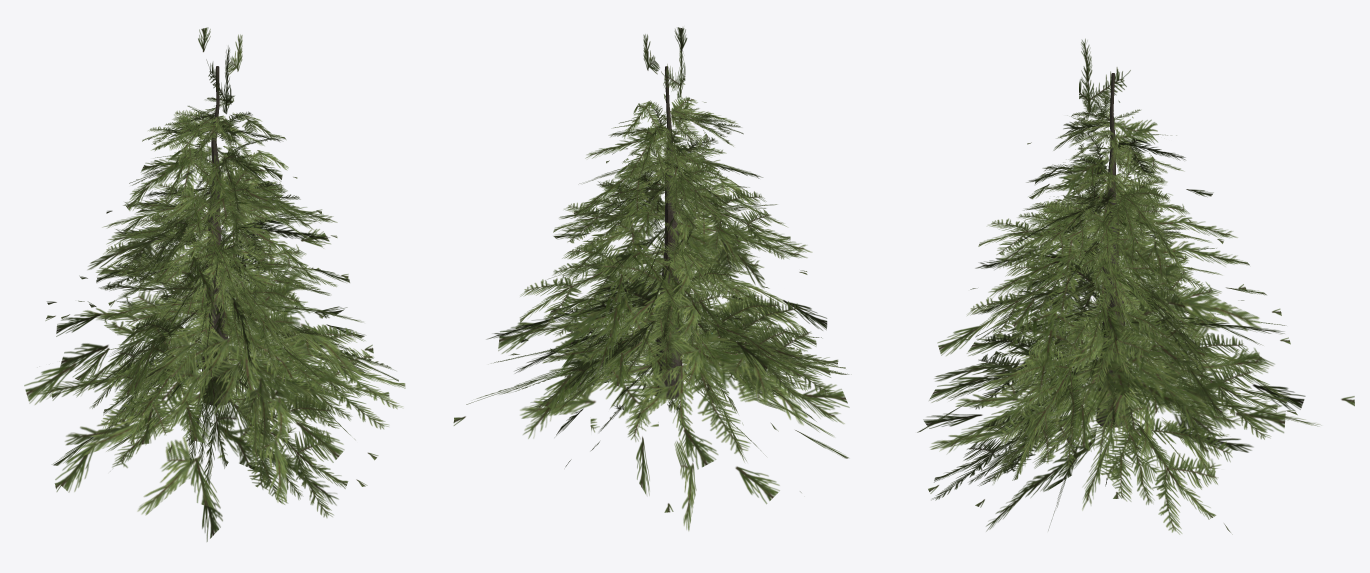
Rendered from prop_sapling_firmed_b.glb.
3 renders of one model, left to right at view 1: azimuth 30°, elevation 25°; view 2: azimuth 150°, elevation 25°; view 3: azimuth 270°, elevation 25°, orthographic. The views are drawn at different scales.
Visible parts, largest first — view 1: conifer_fir_88; view 2: conifer_fir_88; view 3: conifer_fir_88.
Part boxes in pixels (box(x1,y1,x2,y2)): conifer_fir_88: box(24, 27, 405, 541); conifer_fir_88: box(453, 27, 849, 530); conifer_fir_88: box(917, 38, 1354, 534).
Bounding box in the file's own units: 4.85 × 6.05 × 5.14.
Materials: 2 (2 with a texture image).
